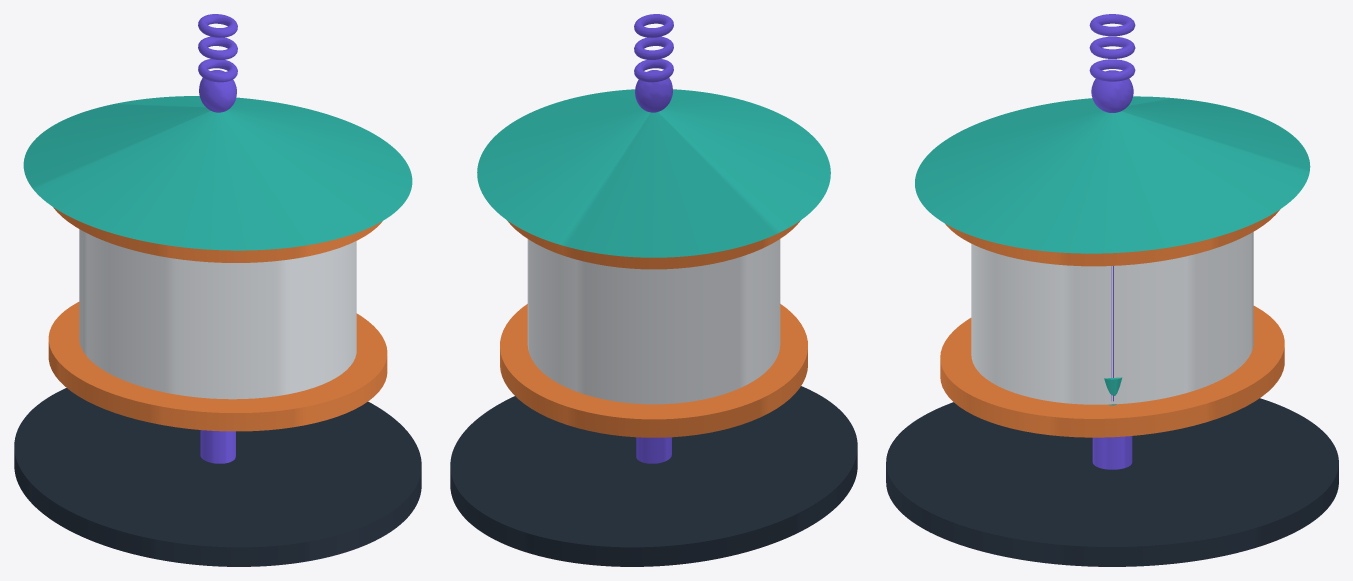
File: 0929_秦汉图鉴_长信宫灯.glb
3 views of the same model, side by side, from view 1: azimuth 30°, elevation 25°; view 2: azimuth 150°, elevation 25°; view 3: azimuth 270°, elevation 25° (orthographic).
Parts seen in each view (by area): view 1: card_0929; view 2: card_0929; view 3: card_0929.
Boxes of the visible parts, x1,y1,x2,y2 form: card_0929: (14,14,421,566); card_0929: (450,14,857,566); card_0929: (886,14,1338,566).
Bounding box in the file's own units: 0.7865 × 1 × 0.8889.
